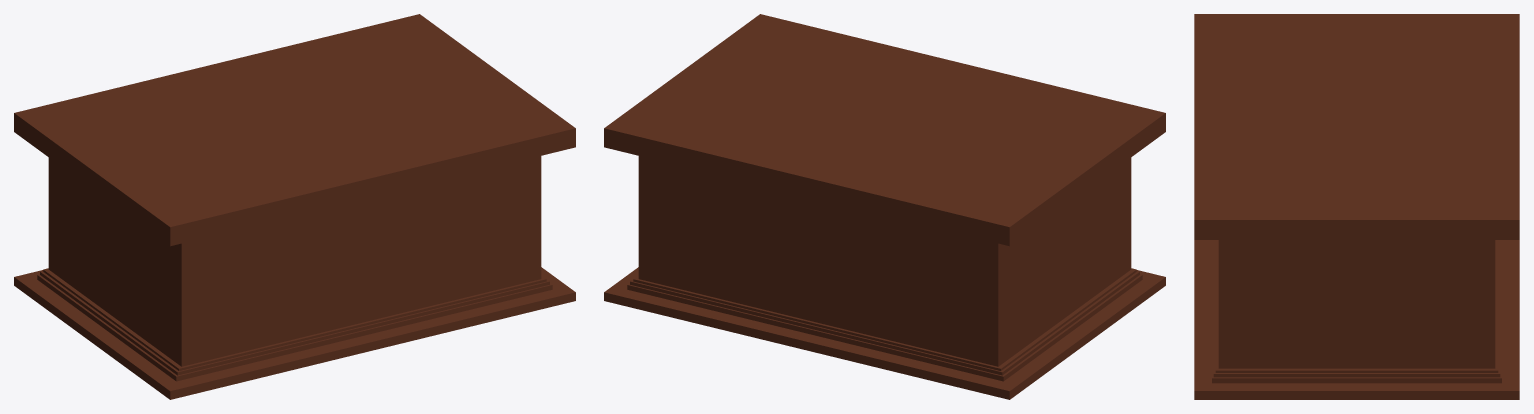
The model's file is Pedestal.fbx.
The picture shows the model from 3 angles, left to right: view 1: azimuth 30°, elevation 25°; view 2: azimuth 150°, elevation 25°; view 3: azimuth 270°, elevation 25°; orthographic projection. The views are drawn at different scales.
Visible parts, largest first — view 1: Pedestal; view 2: Pedestal; view 3: Pedestal.
Part boxes in pixels (x1=…): Pedestal: x1=14, y1=14, x2=575, y2=399; Pedestal: x1=604, y1=14, x2=1165, y2=399; Pedestal: x1=1194, y1=14, x2=1519, y2=399.
Size of the model in its own units: 300 by 122 by 200.
